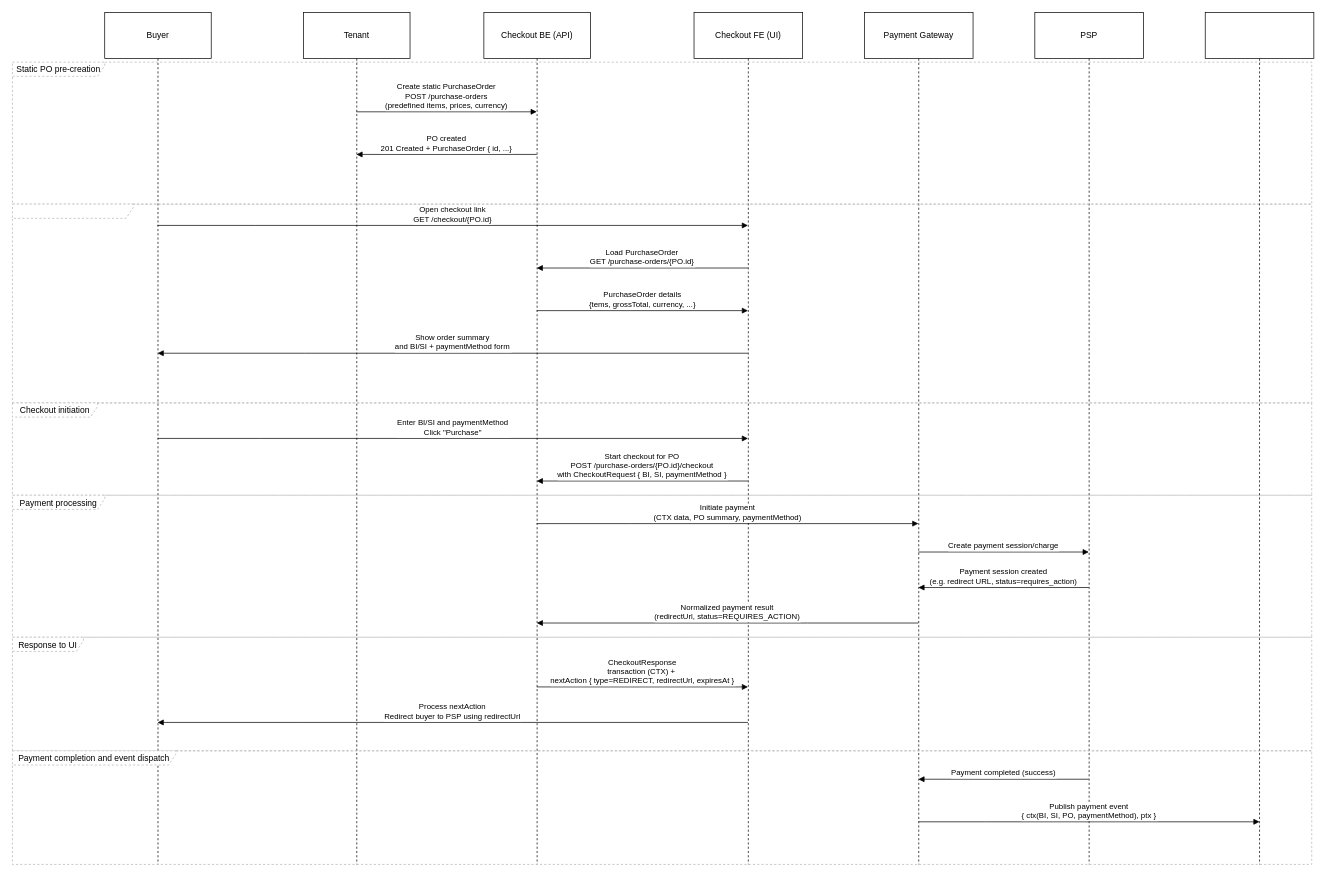
Image size: 1326x877. Some labels were removed from this diagram. The shapes that lost their labels are listed below. From the top down, each one's box as (x1, y1, x2, y2) in pixels, then its label:
(12, 203, 1312, 403): Buyer opens static link
(1205, 12, 1314, 864): Queue (MQ)
